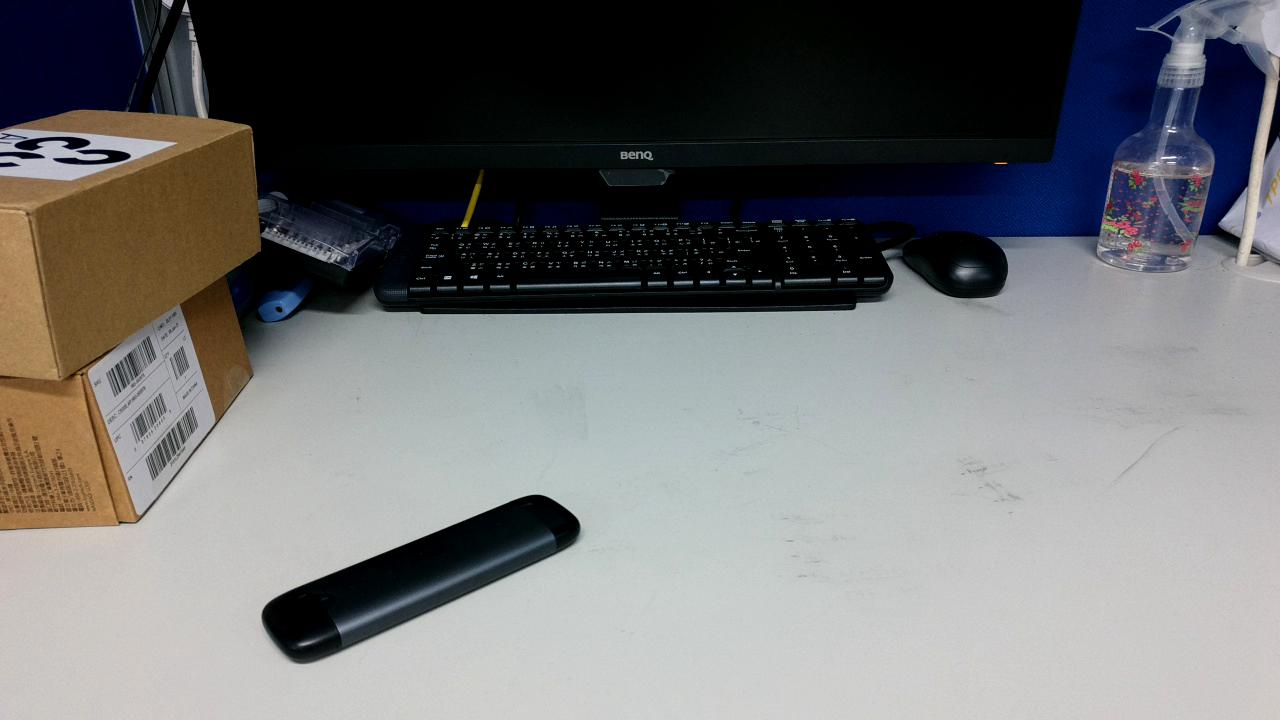long: (371, 417, 431, 553)
